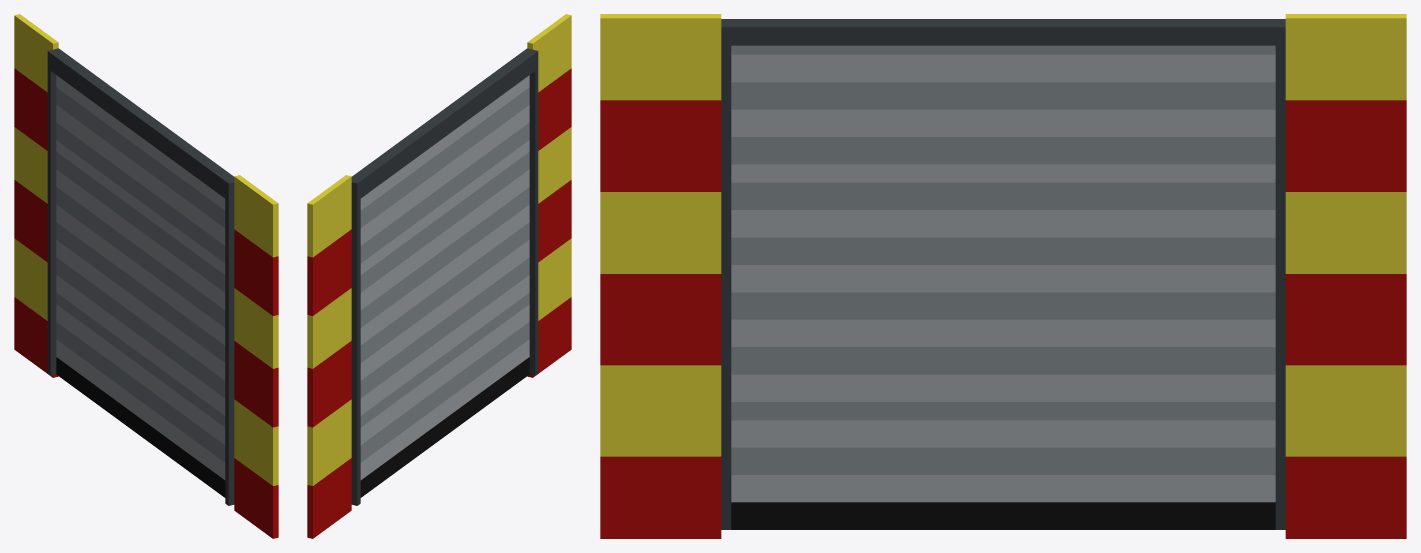
File: rescue_truck_rear_shutter.glb
The picture shows the model from 3 angles, left to right: view 1: azimuth 30°, elevation 25°; view 2: azimuth 150°, elevation 25°; view 3: azimuth 270°, elevation 25°; orthographic projection. The views are drawn at different scales.
Visible parts, largest first — view 1: body:compound; view 2: body:compound; view 3: body:compound.
Part boxes in pixels (left/top/right/bottom): body:compound: left=14, top=14, right=278, bottom=538; body:compound: left=307, top=14, right=571, bottom=538; body:compound: left=600, top=14, right=1406, bottom=538.
Size of the model in its own units: 0.0625 by 1.78 by 2.5.
